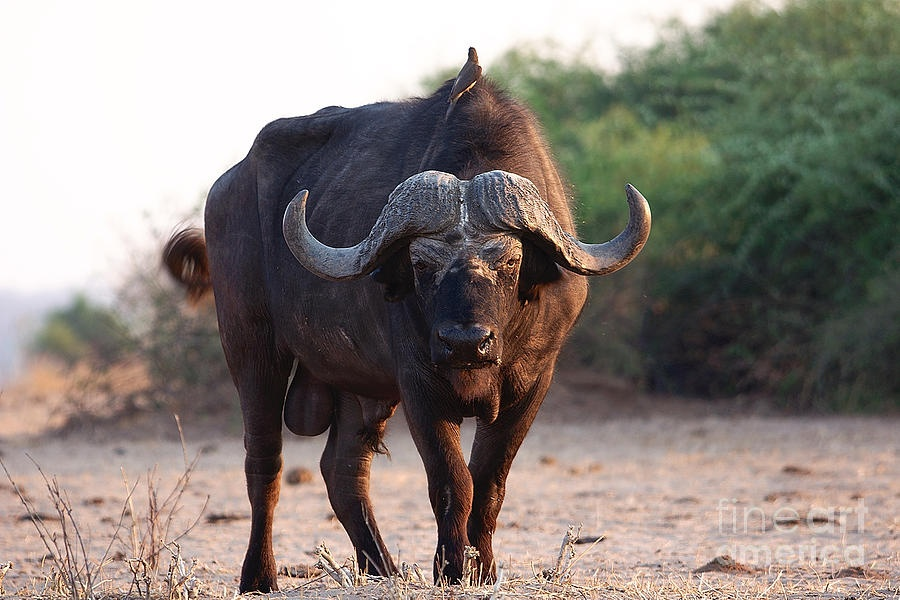buffalo: (189, 68, 662, 595)
